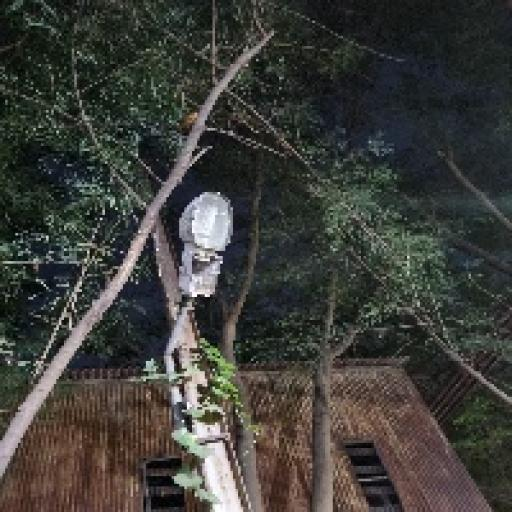Not Working: (141, 179, 256, 311)
